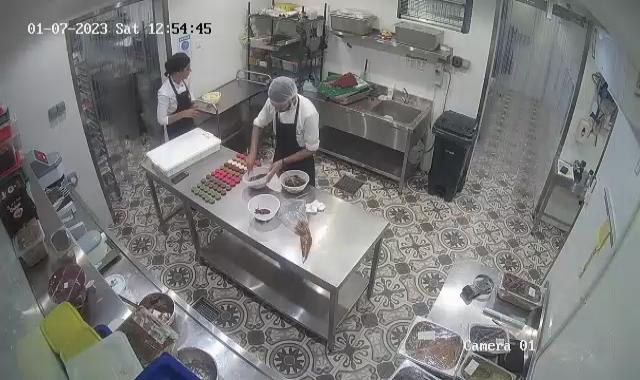hairnet: (266, 74, 299, 106)
no_hairnet: (163, 51, 192, 74)
